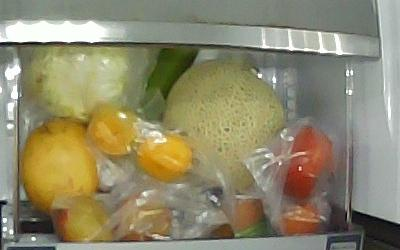cabbage: (30, 45, 133, 120)
melon: (161, 57, 284, 191)
pear: (20, 115, 100, 218)
prune_vinyl: (115, 191, 172, 240), (55, 194, 112, 243), (275, 198, 321, 235)
tangerine_vinyl: (133, 129, 193, 181), (87, 102, 139, 156)
tomato_vinyl: (267, 122, 335, 202)
zucchini: (140, 46, 200, 125)
